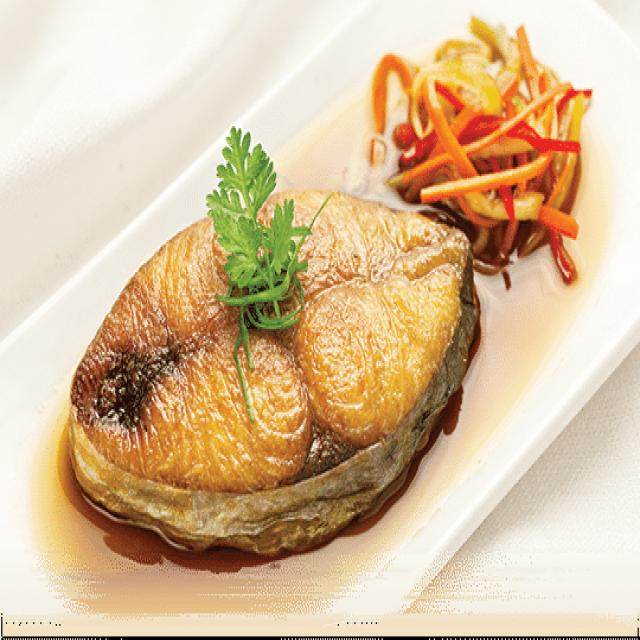ca kho: (68, 190, 478, 549)
